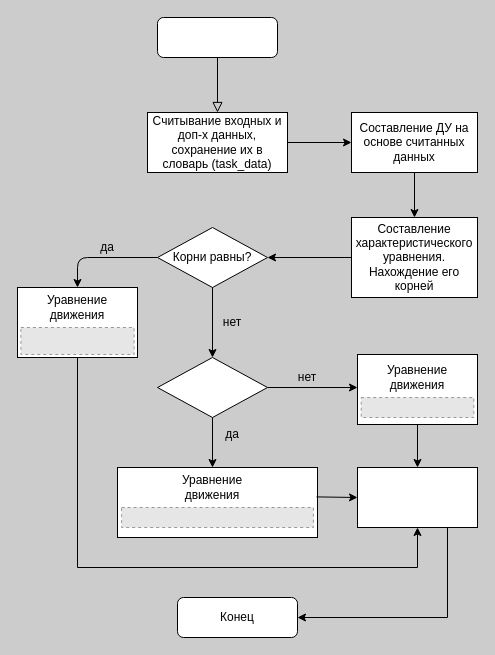
Some shapes in this 495 by 655 pixel diagram are drawn without their labels. Grey dashed boxes stand in for pictures. The shapes that lost their labels are listed below. From the top down, each one's centre as x and y in pixels, then its label:
[217,37]: Начало
[212,387]: Корни комплексного типа?
[417,497]: Построение графика x = f(t)
